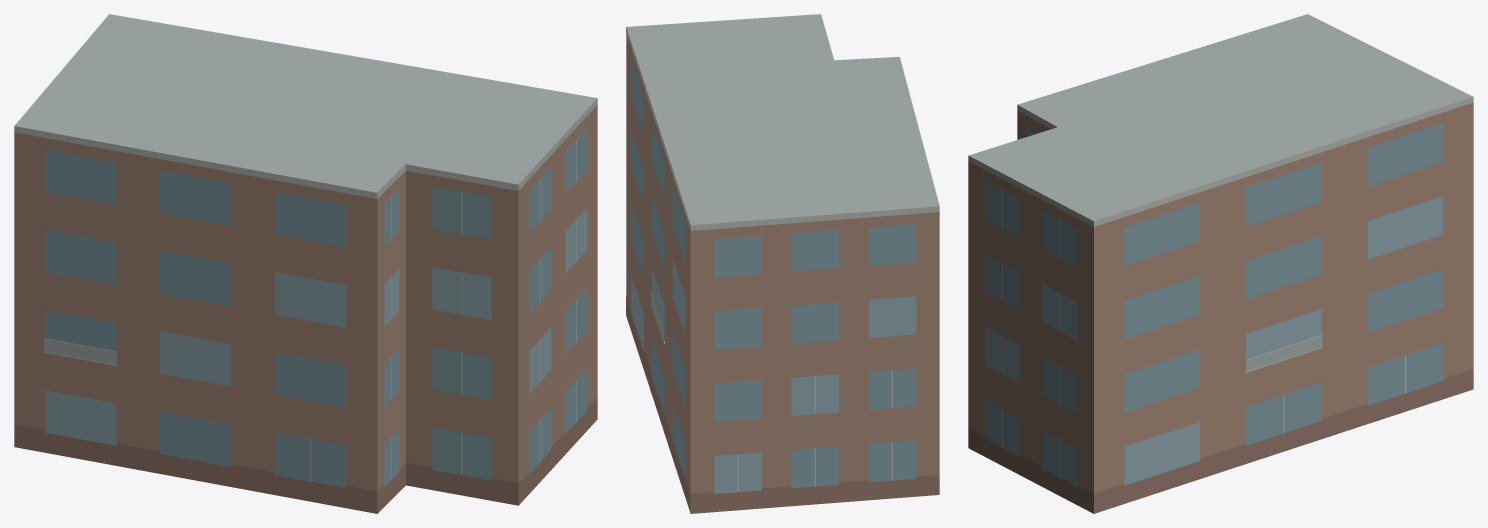
Rendered from survey-upis-32756760.glb.
3 renders of one model, left to right at view 1: azimuth 30°, elevation 25°; view 2: azimuth 150°, elevation 25°; view 3: azimuth 270°, elevation 25°, orthographic. The views are drawn at different scales.
Parts seen in each view (by area): view 1: survey-upis-32756760.tmp; view 2: survey-upis-32756760.tmp; view 3: survey-upis-32756760.tmp.
Part boxes in pixels (x1=…): survey-upis-32756760.tmp: x1=14, y1=14, x2=597, y2=513; survey-upis-32756760.tmp: x1=626, y1=14, x2=939, y2=513; survey-upis-32756760.tmp: x1=968, y1=14, x2=1473, y2=513.
Bounding box in the file's own units: 18.85 × 12.4 × 19.41.
